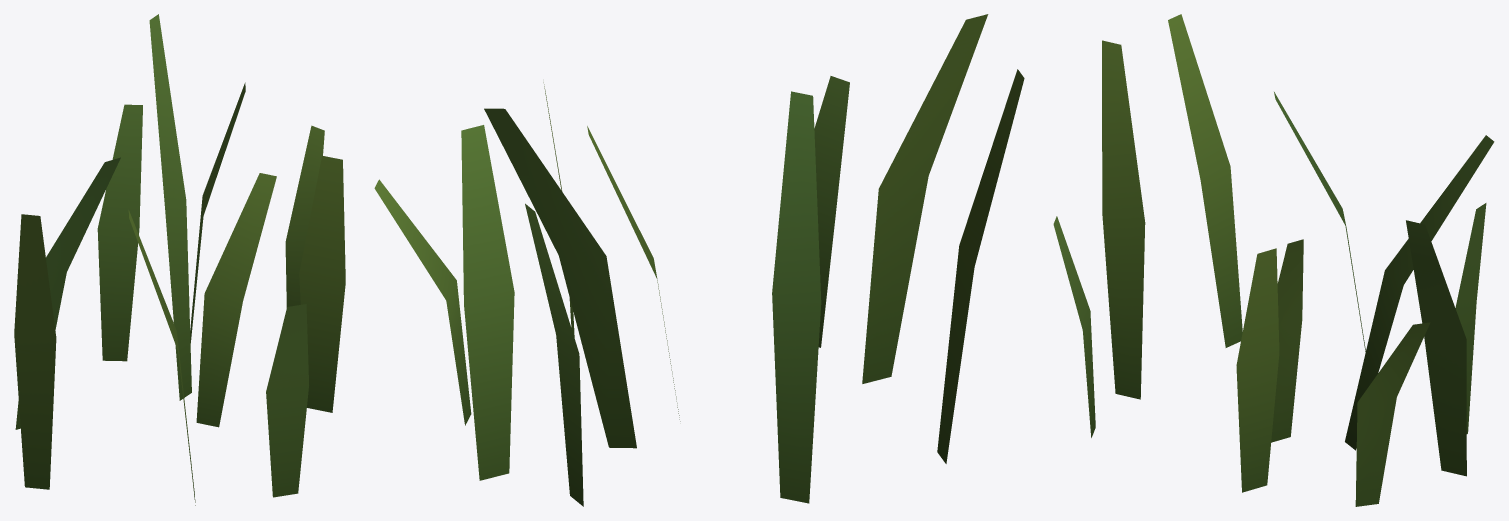
Rendered from grass_tuft_06.gltf.
3 renders of one model, left to right at view 1: azimuth 30°, elevation 25°; view 2: azimuth 150°, elevation 25°; view 3: azimuth 270°, elevation 25°, orthographic. The views are drawn at different scales.
Visible parts, largest first — view 1: grass_tuft_06.blades; view 2: grass_tuft_06.blades; view 3: grass_tuft_06.blades.
Boxes of the visible parts, box(x1,y1,x2,y2) form: grass_tuft_06.blades: box(14, 14, 345, 505); grass_tuft_06.blades: box(374, 14, 1024, 506); grass_tuft_06.blades: box(1053, 14, 1494, 506).
Bounding box in the file's own units: 0.0971 × 0.0713 × 0.0873.
